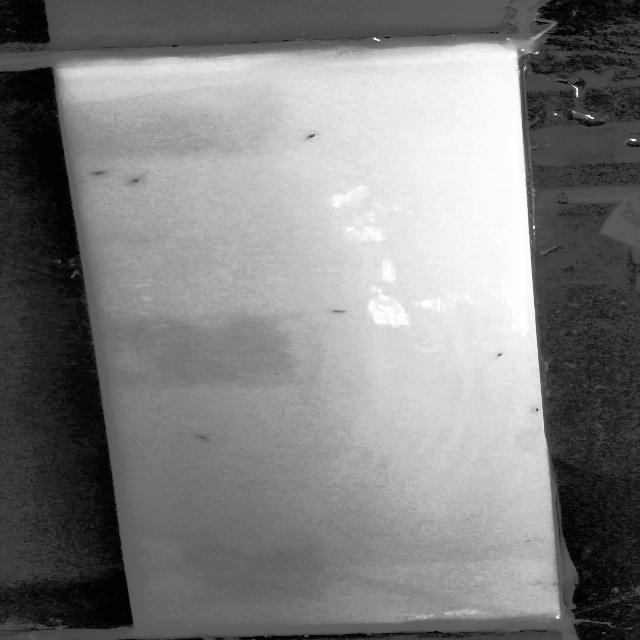shrimp: (326, 301, 352, 317), (488, 350, 512, 367), (189, 430, 223, 442), (88, 167, 116, 180), (298, 131, 326, 144), (128, 172, 152, 186), (528, 402, 540, 414)
